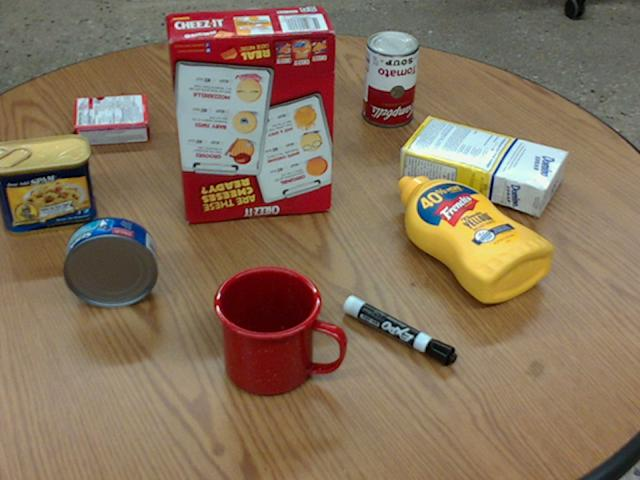cracker_box: (164, 9, 336, 221)
gelatin_box: (73, 94, 149, 145)
large_marker: (342, 295, 456, 365)
master_chef_can: (211, 7, 313, 129)
mug: (213, 265, 346, 396)
mustard_bottle: (396, 175, 552, 302)
potted_meat_can: (0, 135, 96, 236)
sugar_box: (397, 118, 567, 213)
tomato_soup_can: (359, 29, 416, 125)
tuna_fish_can: (62, 217, 156, 308)
